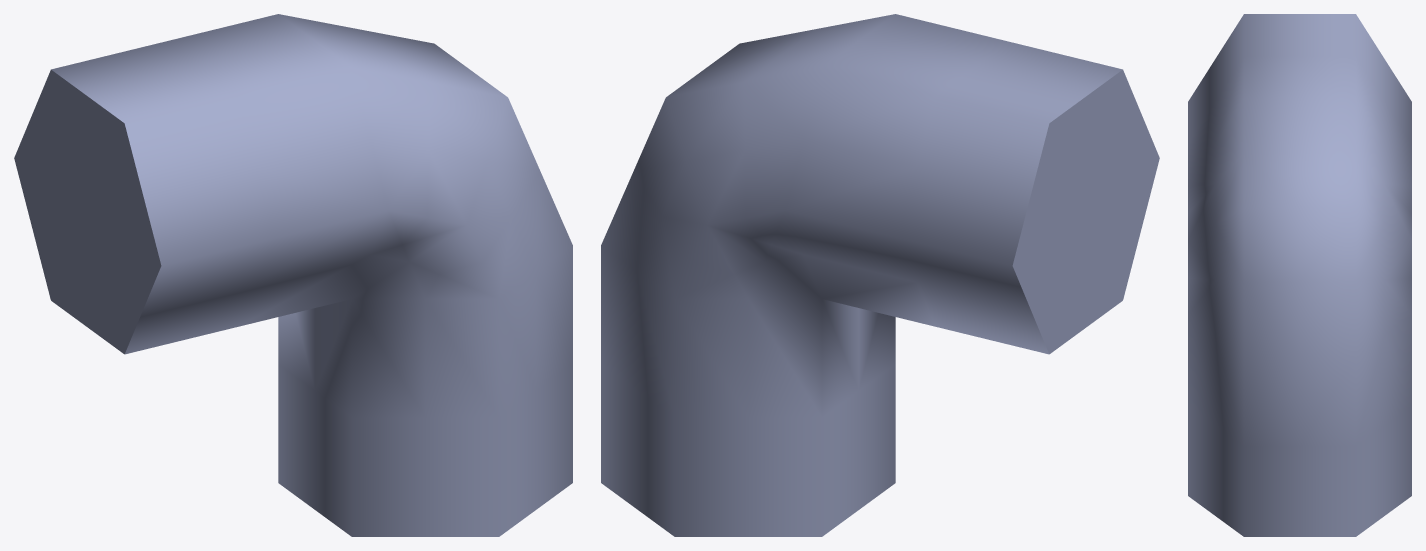
File: scifi-pipe-bend.fbx
3 views of the same model, side by side, from view 1: azimuth 30°, elevation 25°; view 2: azimuth 150°, elevation 25°; view 3: azimuth 270°, elevation 25° (orthographic). The views are drawn at different scales.
Parts seen in each view (by area): view 1: scifi-pipe-bend; view 2: scifi-pipe-bend; view 3: scifi-pipe-bend.
Boxes of the visible parts, x1=… form: scifi-pipe-bend: x1=14, y1=14, x2=572, y2=536; scifi-pipe-bend: x1=601, y1=14, x2=1159, y2=536; scifi-pipe-bend: x1=1188, y1=14, x2=1411, y2=536.
Size of the model in its own units: 0.5 by 0.2845 by 0.5.
